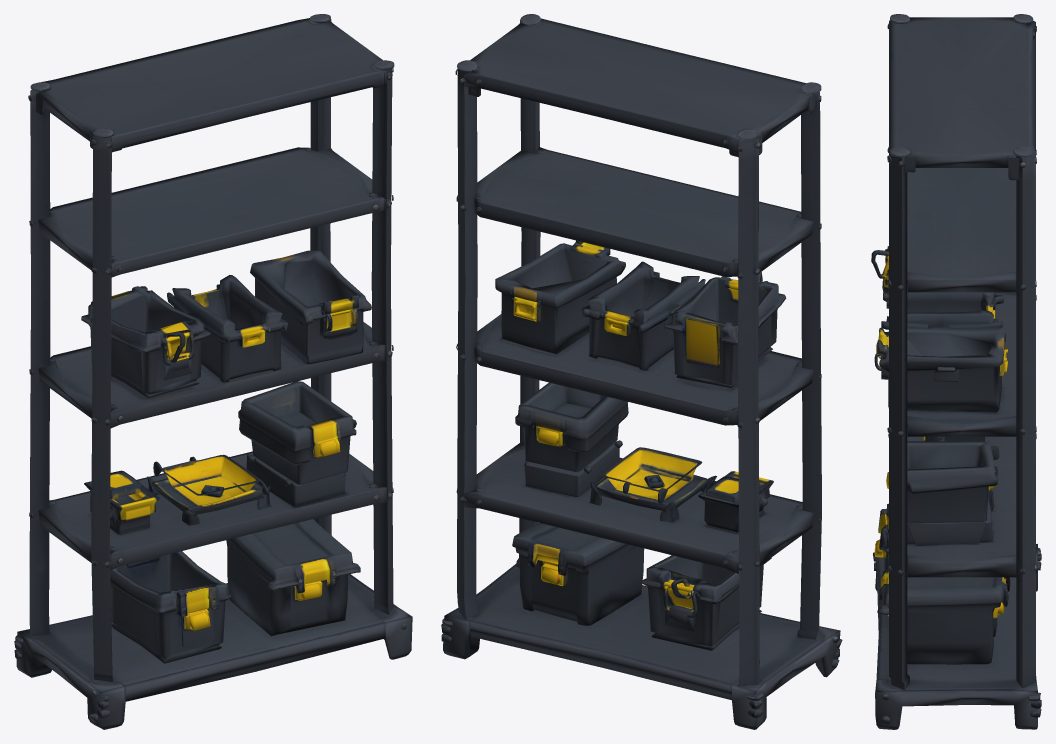
File: storage-rack.glb
The picture shows the model from 3 angles, left to right: view 1: azimuth 30°, elevation 25°; view 2: azimuth 150°, elevation 25°; view 3: azimuth 270°, elevation 25°; orthographic projection. The views are drawn at different scales.
Visible parts, largest first — view 1: tripo_223d4988_5345_4fb7_ba50_27529caa2e86; view 2: tripo_223d4988_5345_4fb7_ba50_27529caa2e86; view 3: tripo_223d4988_5345_4fb7_ba50_27529caa2e86.
Part boxes in pixels (x1,y1,x2,y2): tripo_223d4988_5345_4fb7_ba50_27529caa2e86: (14, 14, 412, 729); tripo_223d4988_5345_4fb7_ba50_27529caa2e86: (441, 14, 842, 729); tripo_223d4988_5345_4fb7_ba50_27529caa2e86: (871, 14, 1041, 729).
Size of the model in its own units: 0.5718 by 0.9995 by 0.2695.
1 material, 1 textured.
